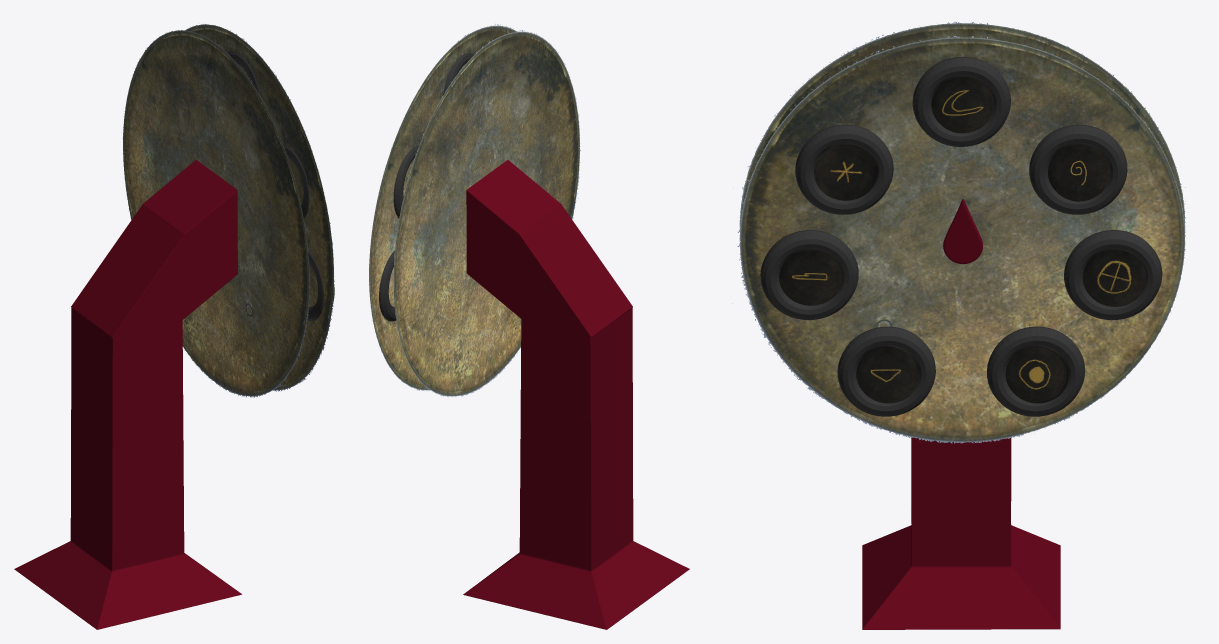
File: dial 1.fbx
3 renders of one model, left to right at view 1: azimuth 30°, elevation 25°; view 2: azimuth 150°, elevation 25°; view 3: azimuth 270°, elevation 25°, orthographic. The views are drawn at different scales.
Parts seen in each view (by area): view 1: Cube.001, Circle, Torus.006, Torus.005; view 2: Cube.001, Circle, Torus.003, Torus.004; view 3: Circle, Cube.001, symbol.001, Torus.001, Torus, Torus.004, Torus.002, Torus.006, Torus.005, Torus.003, Circle.001.
Part boxes in pixels (left/top/right/bottom): Cube.001: left=14, top=160, right=241, bottom=629; Circle: left=122, top=24, right=334, bottom=397; Torus.006: left=307, top=250, right=334, bottom=320; Torus.005: left=283, top=144, right=309, bottom=218; Cube.001: left=463, top=160, right=689, bottom=629; Circle: left=369, top=24, right=580, bottom=396; Torus.003: left=379, top=250, right=396, bottom=321; Torus.004: left=393, top=145, right=419, bottom=218; Circle: left=733, top=21, right=1188, bottom=443; Cube.001: left=862, top=279, right=1060, bottom=629; symbol.001: left=779, top=76, right=1146, bottom=403; Torus.001: left=837, top=326, right=935, bottom=416; Torus: left=912, top=56, right=1010, bottom=146; Torus.004: left=1029, top=124, right=1127, bottom=214; Torus.002: left=987, top=326, right=1084, bottom=416; Torus.006: left=760, top=230, right=858, bottom=319; Torus.005: left=795, top=124, right=893, bottom=214; Torus.003: left=1064, top=230, right=1162, bottom=320; Circle.001: left=943, top=199, right=982, bottom=264.
Bounding box in the file's own units: 549 × 1399 × 978.
